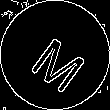M_NE: (21, 21, 89, 89)
